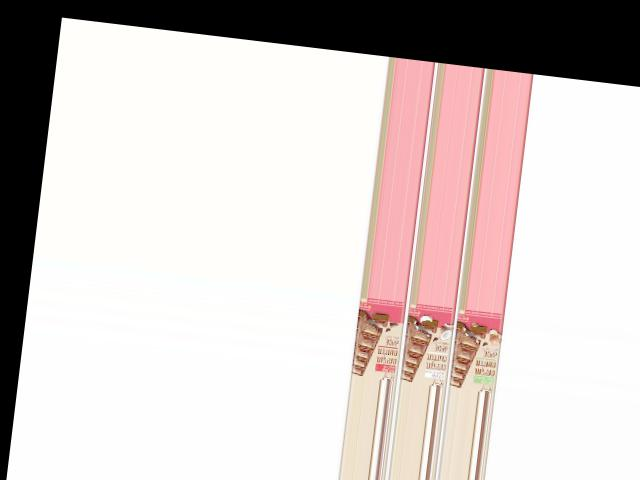chocolate: (450, 307, 506, 392)
